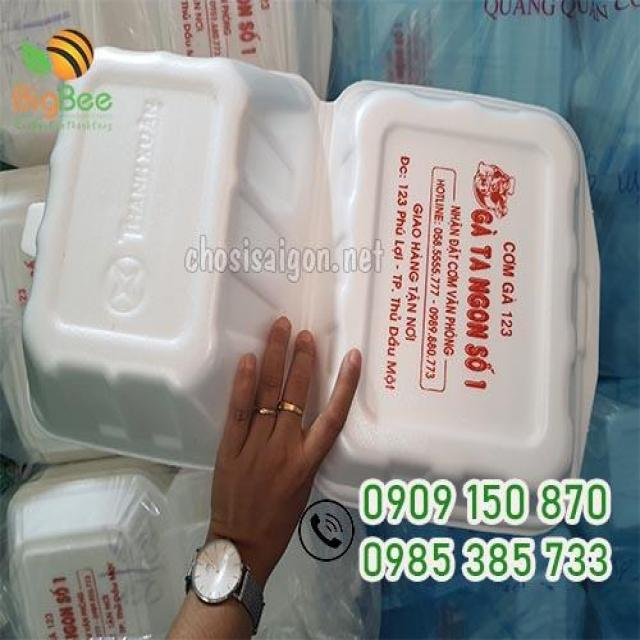styrofoam: (16, 43, 602, 536)
